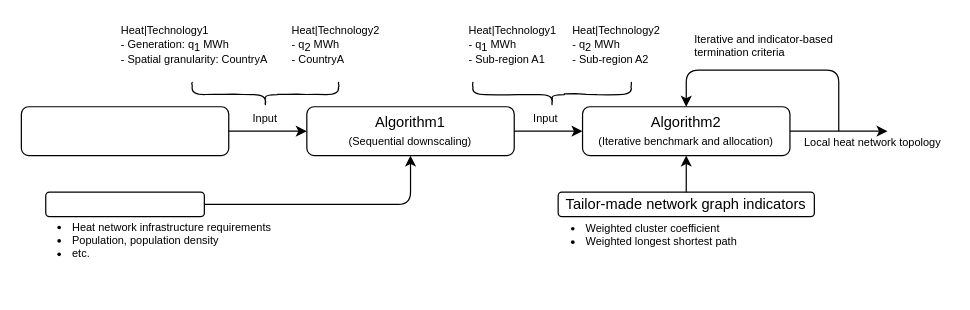
This 970x310 diagram has some shape labels left out. The centre of each missing label's shape, as x and y in pixels:
"Empirical settings" goes at point 124,204.
"Integrated assessment model results" goes at point 124,131.
